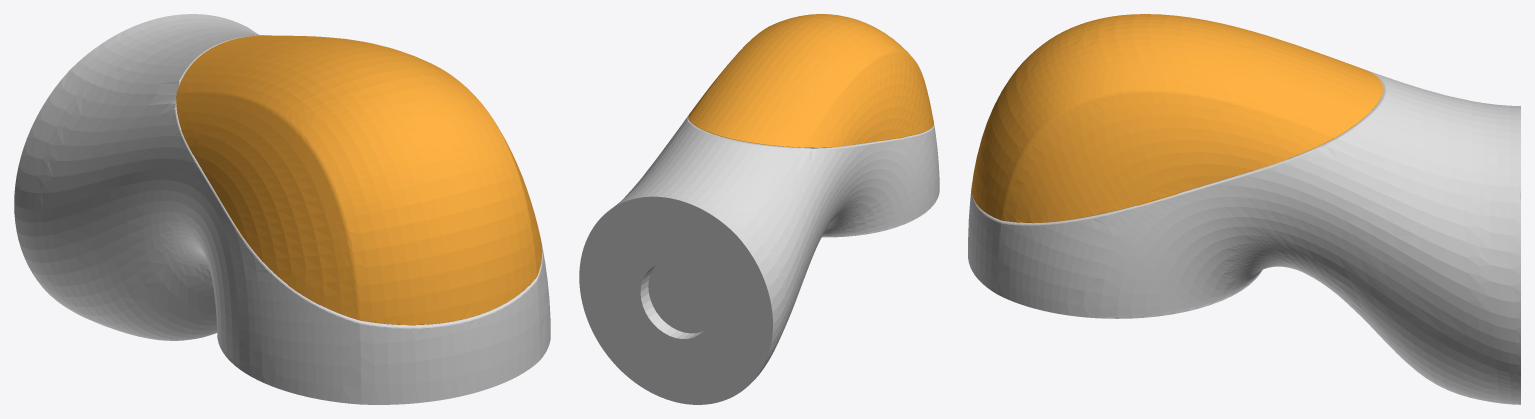
The picture shows the model from 3 angles, left to right: view 1: azimuth 30°, elevation 25°; view 2: azimuth 150°, elevation 25°; view 3: azimuth 270°, elevation 25°; orthographic projection. The views are drawn at different scales.
Visible parts, largest first — view 1: link_4; view 2: link_4; view 3: link_4.
Part boxes in pixels (bbox=[...]): link_4: bbox=[14, 14, 550, 404]; link_4: bbox=[579, 14, 939, 404]; link_4: bbox=[968, 14, 1520, 404].
Size of the model in its own units: 0.136 by 0.252 by 0.1826.
